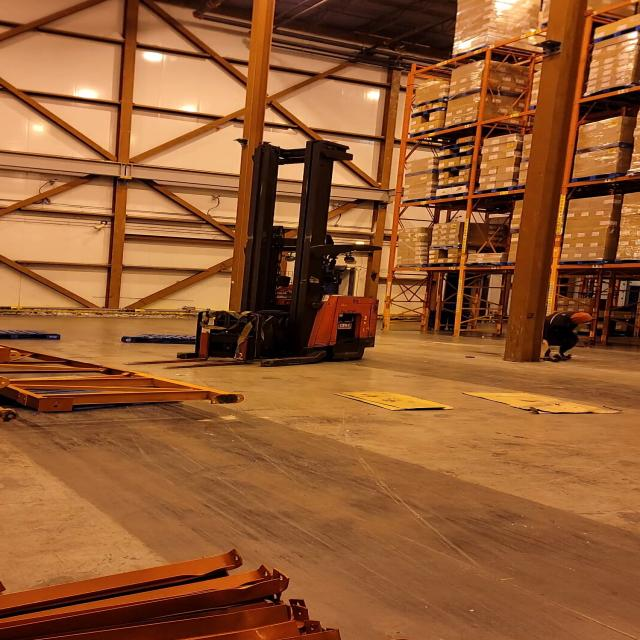forklift: (174, 148, 382, 368)
human: (523, 306, 599, 362)
objectofinterest: (0, 344, 245, 421), (466, 388, 627, 416), (328, 389, 466, 414), (114, 327, 220, 346), (0, 326, 69, 342)
